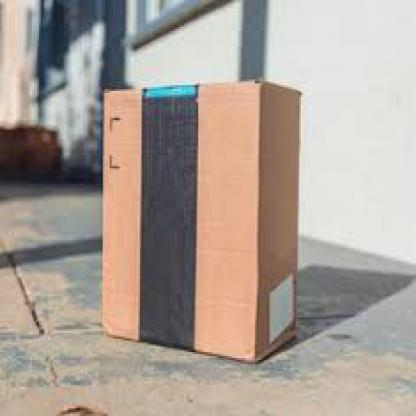package: (97, 74, 306, 366)
